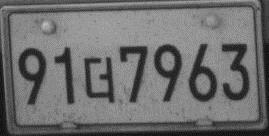1: (50, 45, 80, 105)
3: (220, 42, 250, 100)
6: (186, 42, 219, 102)
7: (118, 44, 149, 104)
9: (152, 42, 184, 104), (16, 46, 47, 106)
더: (83, 56, 115, 104)
